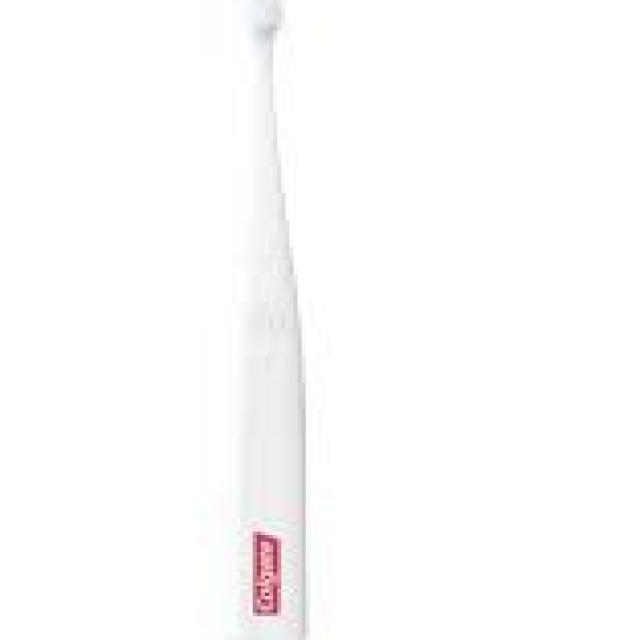organic: (210, 8, 314, 635)
